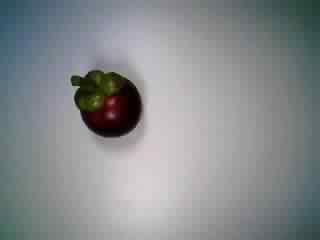mangosteen: (66, 61, 145, 139)
